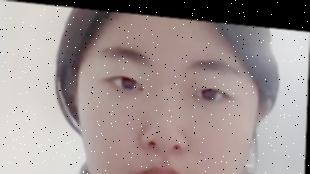eye: (123, 75, 137, 89), (204, 84, 216, 97)
iris: (106, 72, 143, 91), (196, 82, 231, 98)
